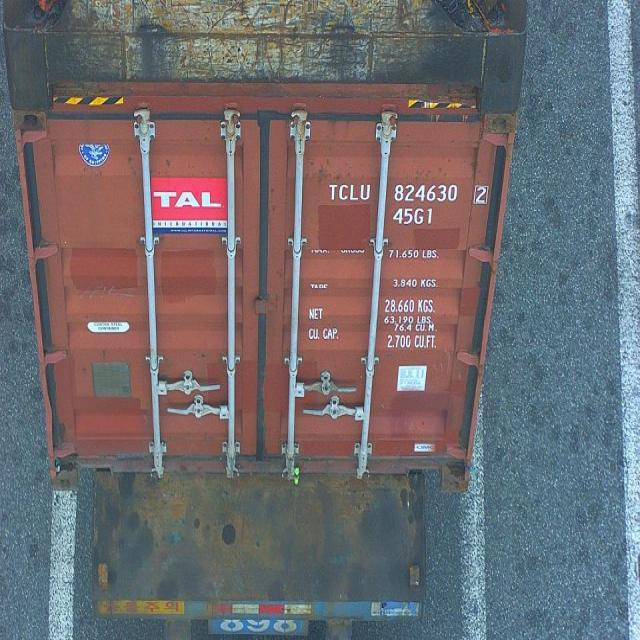ISO: (394, 207, 436, 226)
container_number: (334, 180, 484, 204)
